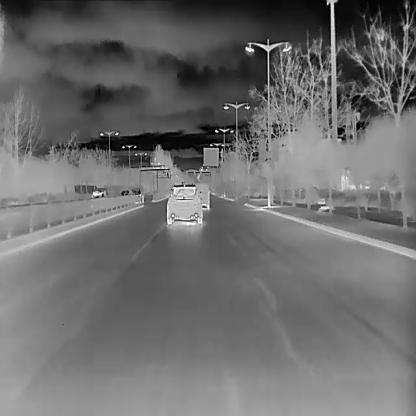car: (165, 183, 204, 224), (192, 181, 210, 209), (128, 186, 144, 205), (119, 188, 130, 198)
truck: (90, 184, 119, 200)
